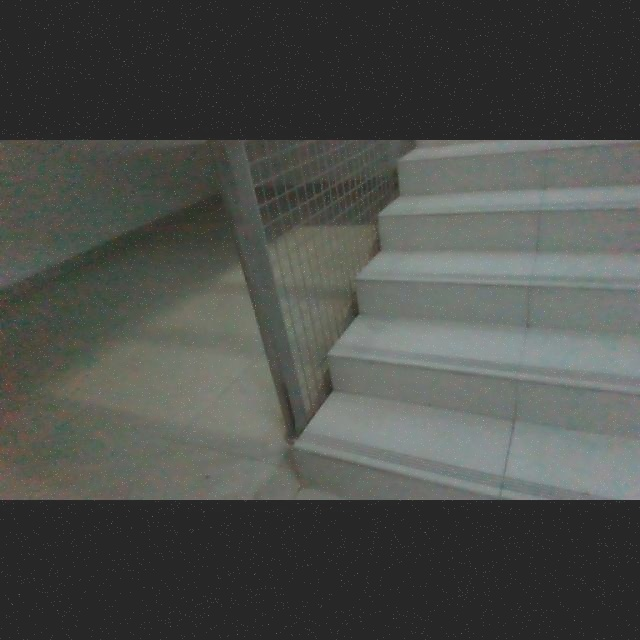stair: (313, 144, 640, 495)
